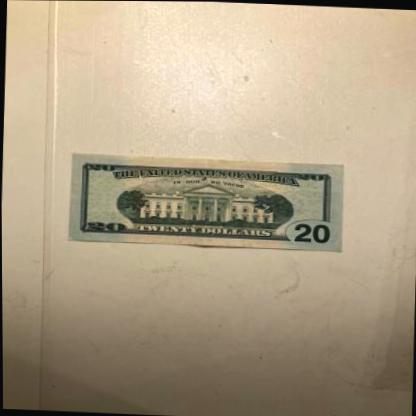twenty-back: (64, 152, 346, 253)
